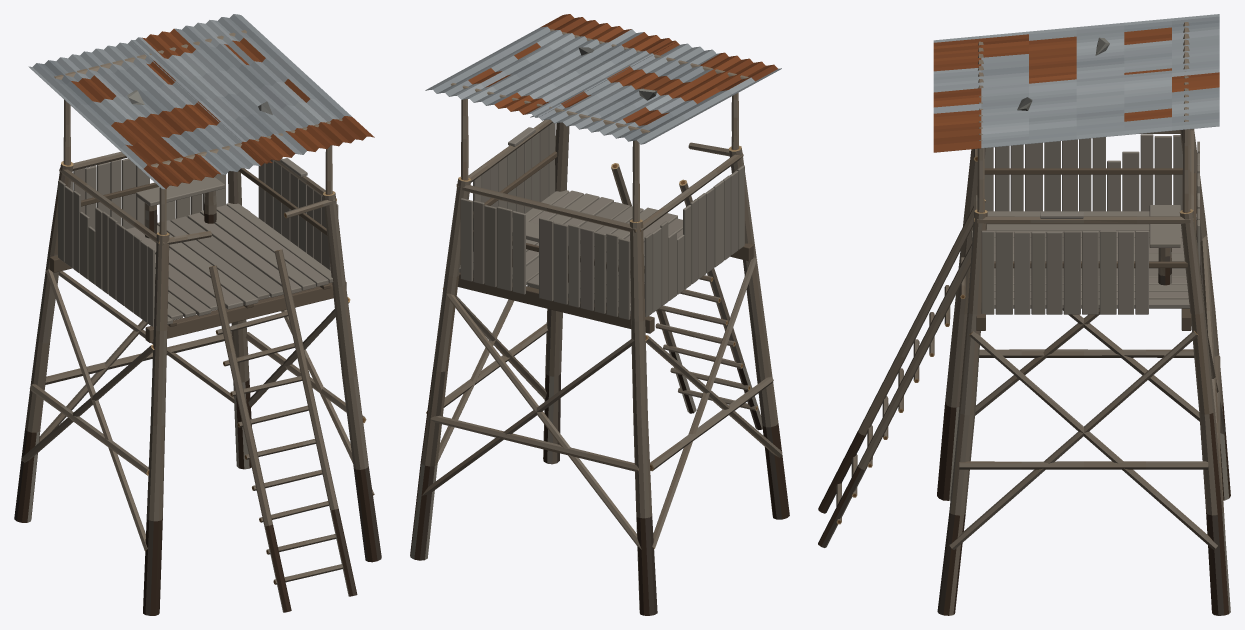
Rendered from hunting-stand.glb.
3 renders of one model, left to right at view 1: azimuth 30°, elevation 25°; view 2: azimuth 150°, elevation 25°; view 3: azimuth 270°, elevation 25°, orthographic. The views are drawn at different scales.
Parts seen in each view (by area): view 1: hunting-stand, hunting-stand-roof; view 2: hunting-stand, hunting-stand-roof; view 3: hunting-stand, hunting-stand-roof.
Part boxes in pixels (x1=…): hunting-stand: x1=14, y1=151, x2=381, y2=615; hunting-stand-roof: x1=28, y1=14, x2=374, y2=234; hunting-stand: x1=410, y1=119, x2=789, y2=615; hunting-stand-roof: x1=425, y1=14, x2=781, y2=221; hunting-stand: x1=818, y1=129, x2=1230, y2=615; hunting-stand-roof: x1=933, y1=14, x2=1219, y2=212.
Size of the model in its own units: 3.03 by 5.56 by 4.26.
